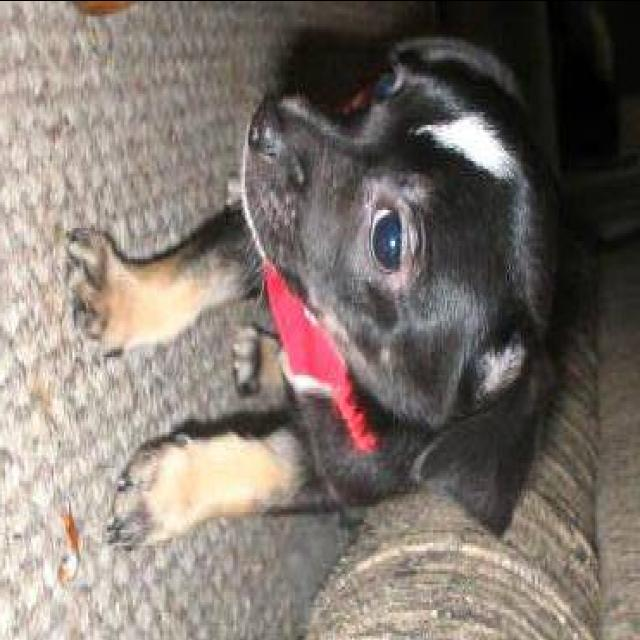dog: (67, 0, 571, 568)
